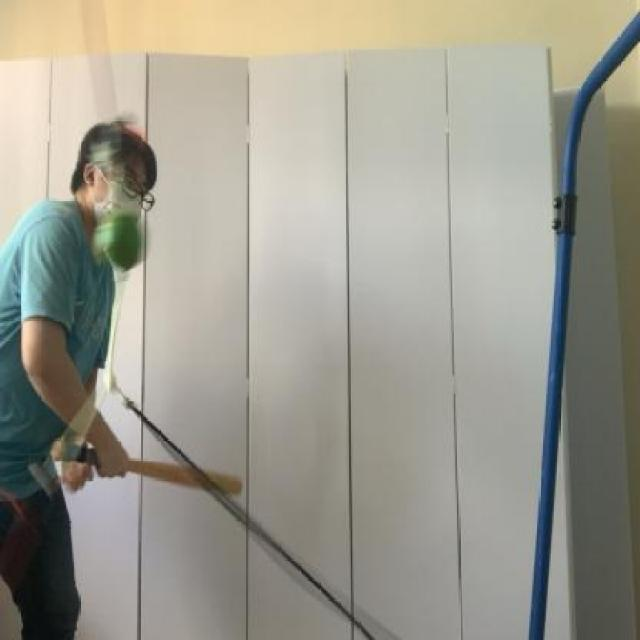baseball: (82, 204, 156, 284)
